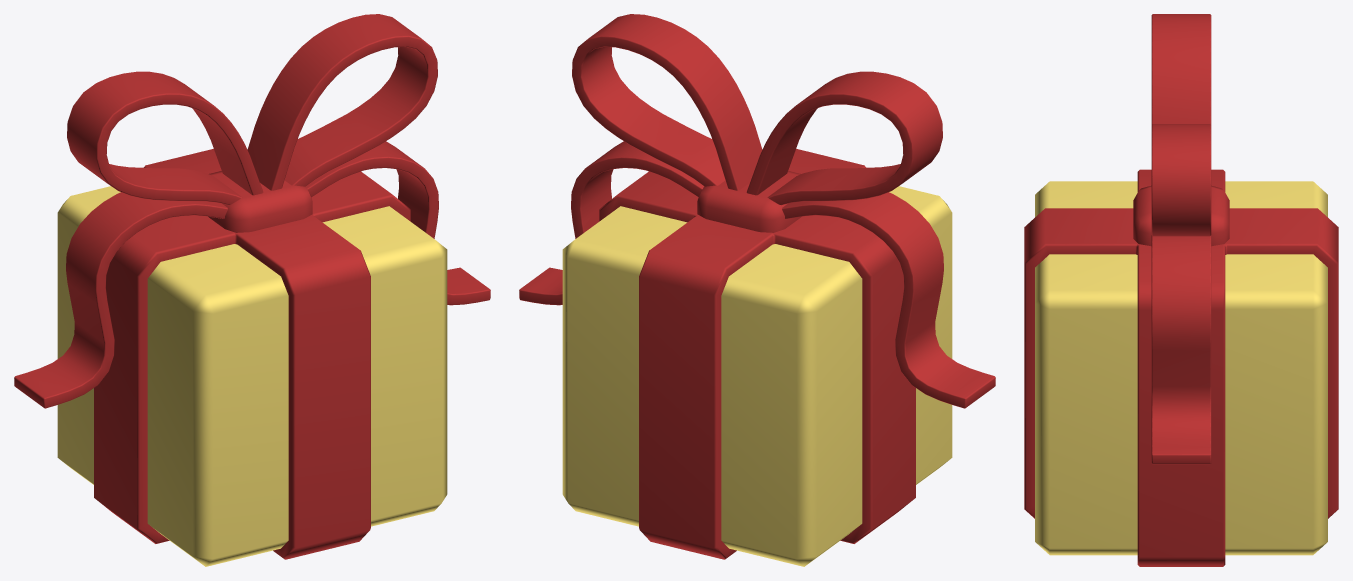
The model's file is Present_1.glb.
3 views of the same model, side by side, from view 1: azimuth 30°, elevation 25°; view 2: azimuth 150°, elevation 25°; view 3: azimuth 270°, elevation 25° (orthographic). The views are drawn at different scales.
Visible parts, largest first — view 1: Present_1; view 2: Present_1; view 3: Present_1.
Part boxes in pixels (box(x1,y1,x2,y2)): Present_1: box(14, 14, 490, 566); Present_1: box(519, 14, 995, 566); Present_1: box(1024, 14, 1338, 566).
Bounding box in the file's own units: 0.446 × 0.4222 × 0.2783.
Materials: 1 (1 with a texture image).
